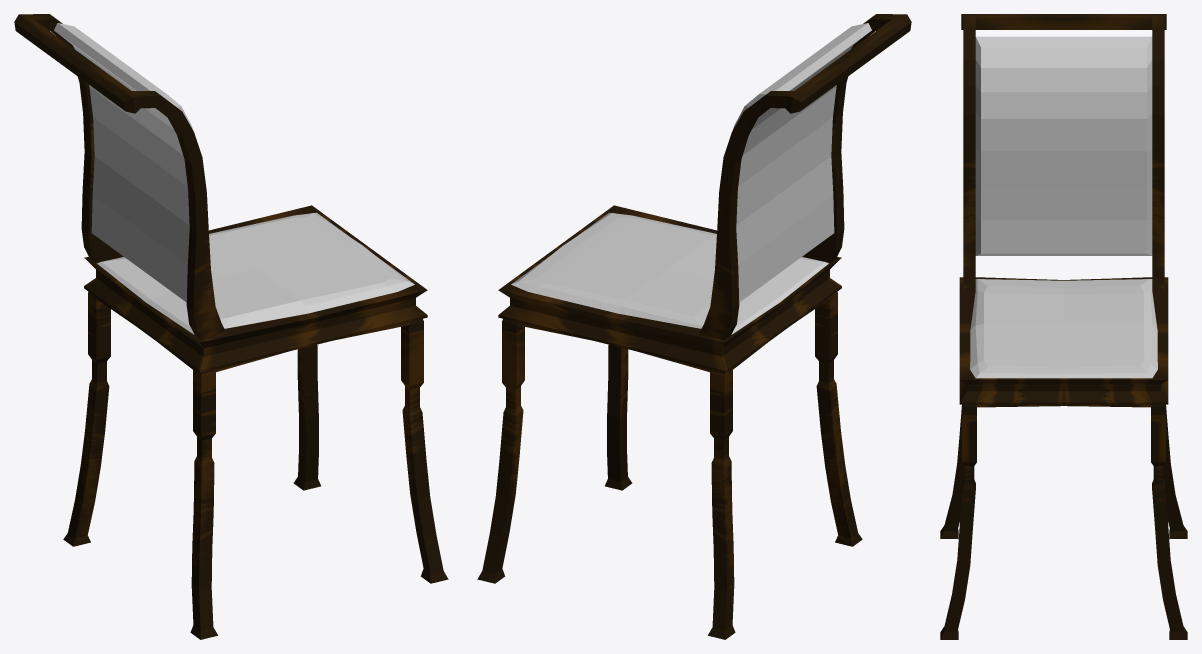
File: MESH_DiningChair.fbx
The picture shows the model from 3 angles, left to right: view 1: azimuth 30°, elevation 25°; view 2: azimuth 150°, elevation 25°; view 3: azimuth 270°, elevation 25°; orthographic projection. The views are drawn at different scales.
Parts seen in each view (by area): view 1: Chair; view 2: Chair; view 3: Chair.
Boxes of the visible parts, box(x1,y1,x2,y2) form: Chair: box(14, 14, 448, 639); Chair: box(477, 14, 911, 639); Chair: box(940, 14, 1187, 639).
Bounding box in the file's own units: 57.24 × 96.41 × 43.85.
